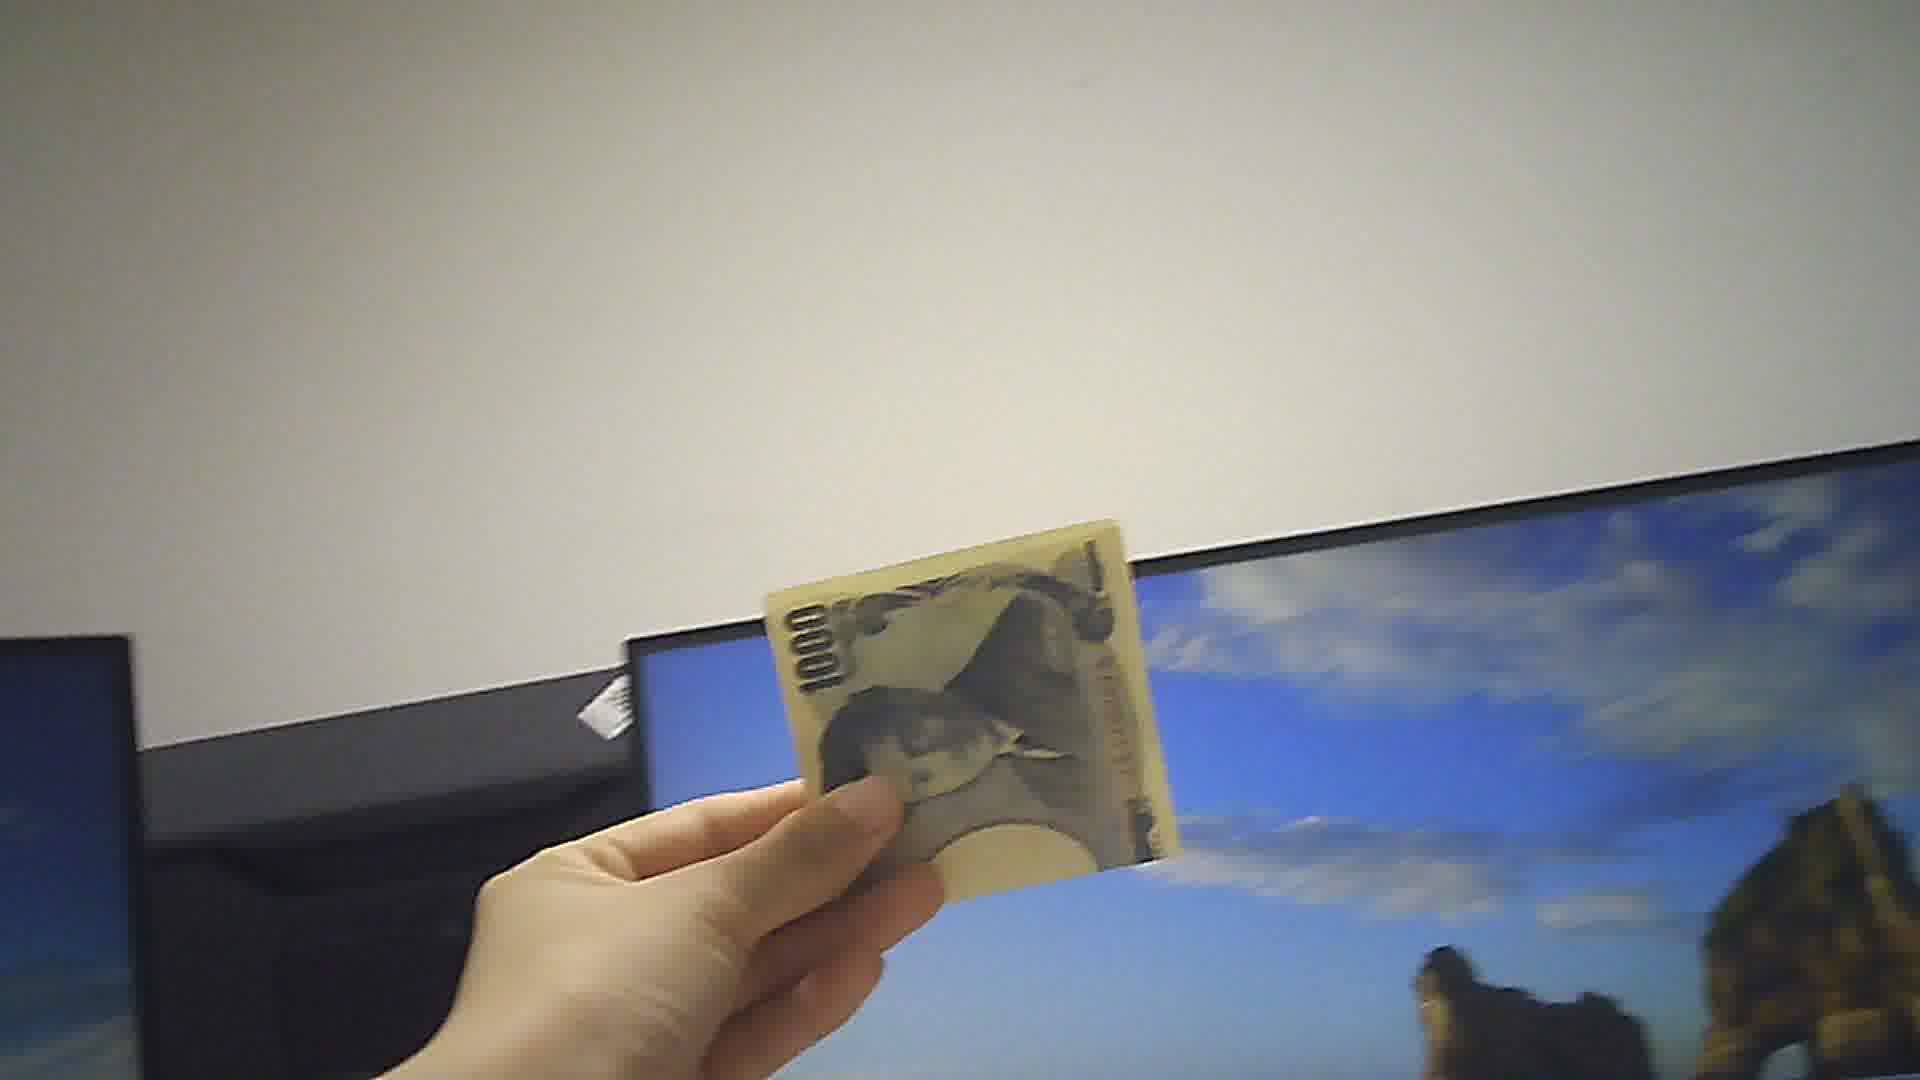1,000 Yen: (749, 508, 1184, 909)
